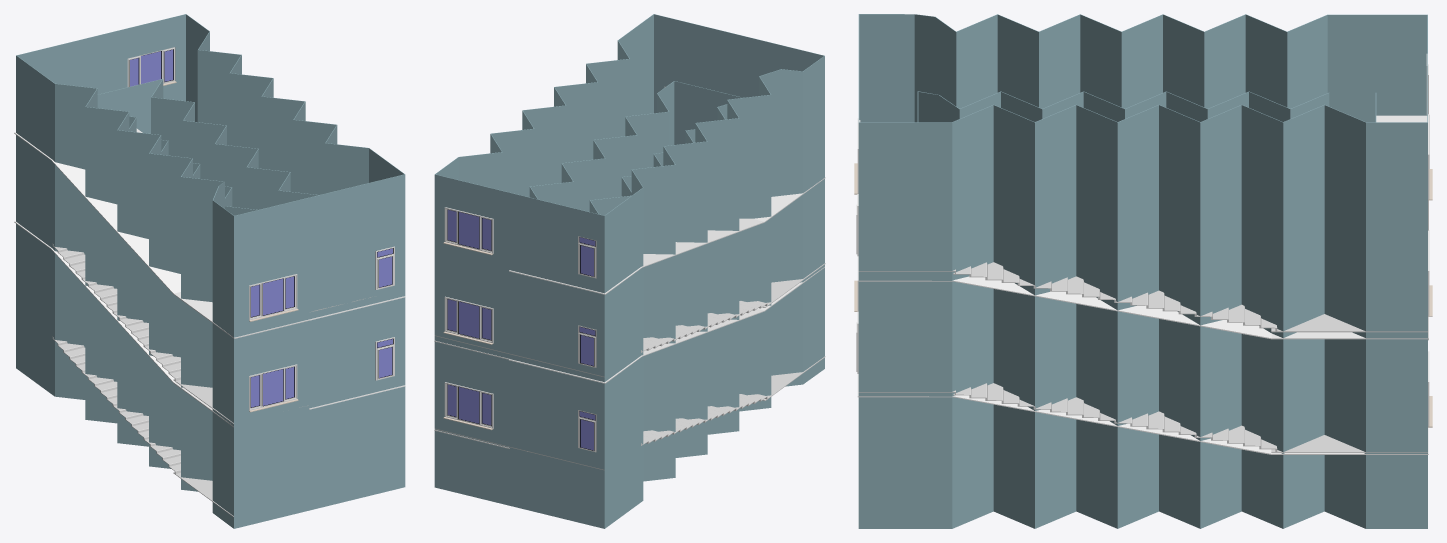
File: stairs.fbx
3 renders of one model, left to right at view 1: azimuth 30°, elevation 25°; view 2: azimuth 150°, elevation 25°; view 3: azimuth 270°, elevation 25°, orthographic. The views are drawn at different scales.
Parts seen in each view (by area): view 1: big walls with mod.001, small walls with mod, 4S_Big window.001, 4Roof_Small W, 2Roof_Small W, Window.022, Window.003, Window.021, Window.001, Window.026; view 2: big walls with mod.001, small walls with mod, 4S_Big window.001, 4Roof_Small W, 2Roof_Small W, Window.026, Window.036, Window.008, Window.006, Window.025, Window.035; view 3: big walls with mod.001, 4S_Big window.001, small walls with mod, 3Roof_Big W, 1Roof_Big W.
Boxes of the visible parts, bbox=[...] form: big walls with mod.001: bbox=[16, 14, 405, 528]; small walls with mod: bbox=[97, 79, 318, 215]; 4S_Big window.001: bbox=[52, 243, 370, 516]; 4Roof_Small W: bbox=[14, 128, 309, 338]; 2Roof_Small W: bbox=[14, 221, 233, 427]; Window.022: bbox=[262, 278, 283, 315]; Window.003: bbox=[262, 369, 283, 406]; Window.021: bbox=[249, 274, 298, 321]; Window.001: bbox=[249, 364, 298, 412]; Window.026: bbox=[141, 51, 161, 83]; big walls with mod.001: bbox=[434, 14, 824, 528]; small walls with mod: bbox=[529, 81, 742, 215]; 4S_Big window.001: bbox=[434, 263, 825, 470]; 4Roof_Small W: bbox=[509, 177, 825, 294]; 2Roof_Small W: bbox=[508, 267, 824, 383]; Window.026: bbox=[458, 211, 479, 249]; Window.036: bbox=[458, 386, 479, 424]; Window.008: bbox=[458, 301, 479, 338]; Window.006: bbox=[443, 296, 493, 344]; Window.025: bbox=[443, 207, 493, 255]; Window.035: bbox=[443, 382, 493, 430]; big walls with mod.001: bbox=[858, 14, 1427, 528]; 4S_Big window.001: bbox=[858, 262, 1427, 452]; small walls with mod: bbox=[917, 91, 1376, 122]; 3Roof_Big W: bbox=[857, 256, 1428, 339]; 1Roof_Big W: bbox=[857, 374, 1428, 454].
Bounding box in the file's own units: 890 × 1574 × 1998.
